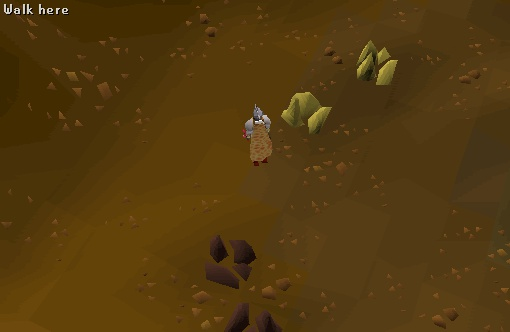gold: (348, 34, 415, 100), (273, 84, 342, 144)
iron: (196, 226, 268, 293)
